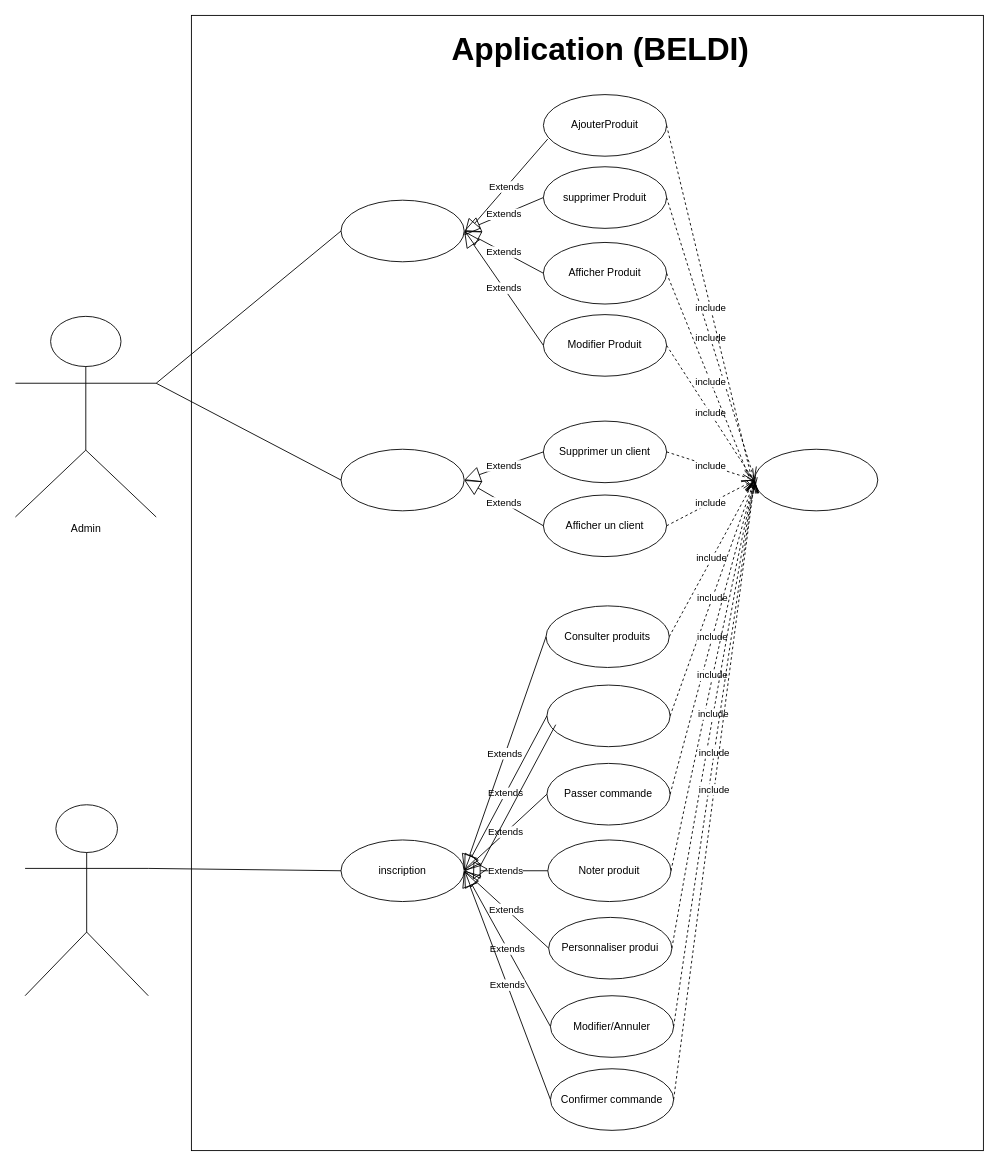
This 999x1166 diagram has some shape labels left out. The centre of each missing label's shape, as x and y in pixels:
Authentification: [816,479]
Client: [86,900]
gérer les comptes des clients: [402,479]
gérer les produits: [402,230]
Voir détails: [608,715]
